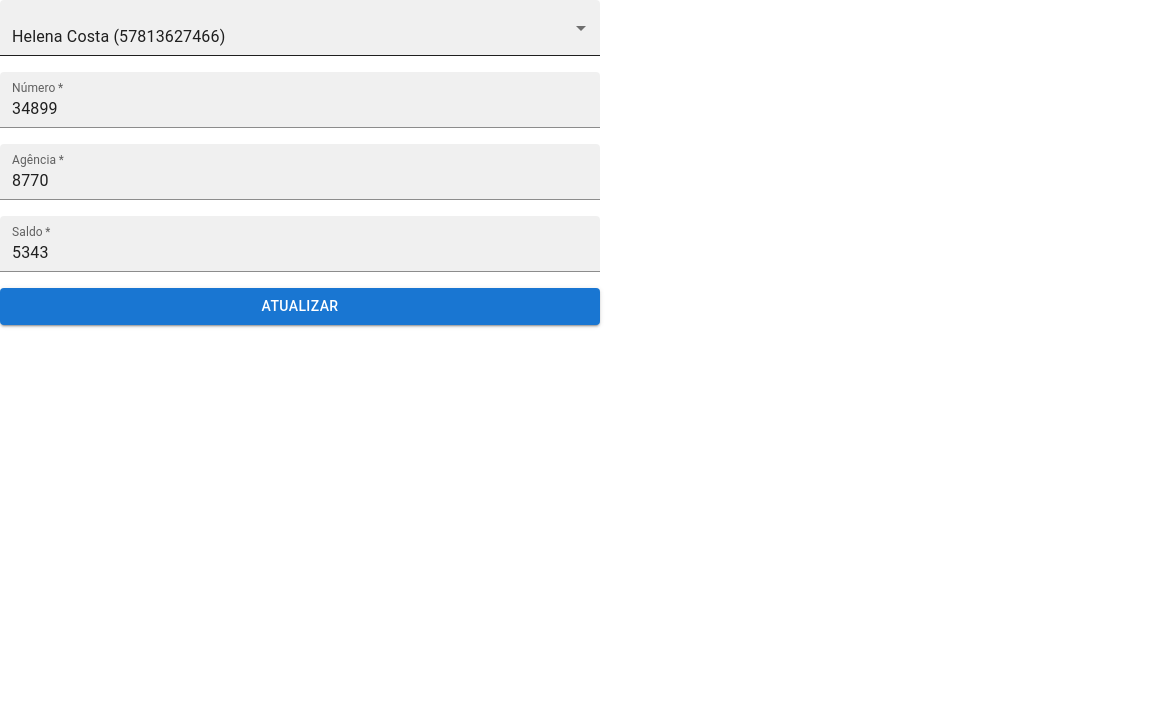
Test: EditContaForm › deve editar e atualizar o formulário com sucesso
The image size is (1152, 720).
Replace the text in the field labelled "Número *" with "12345": (300, 100) [0,72,600,128]
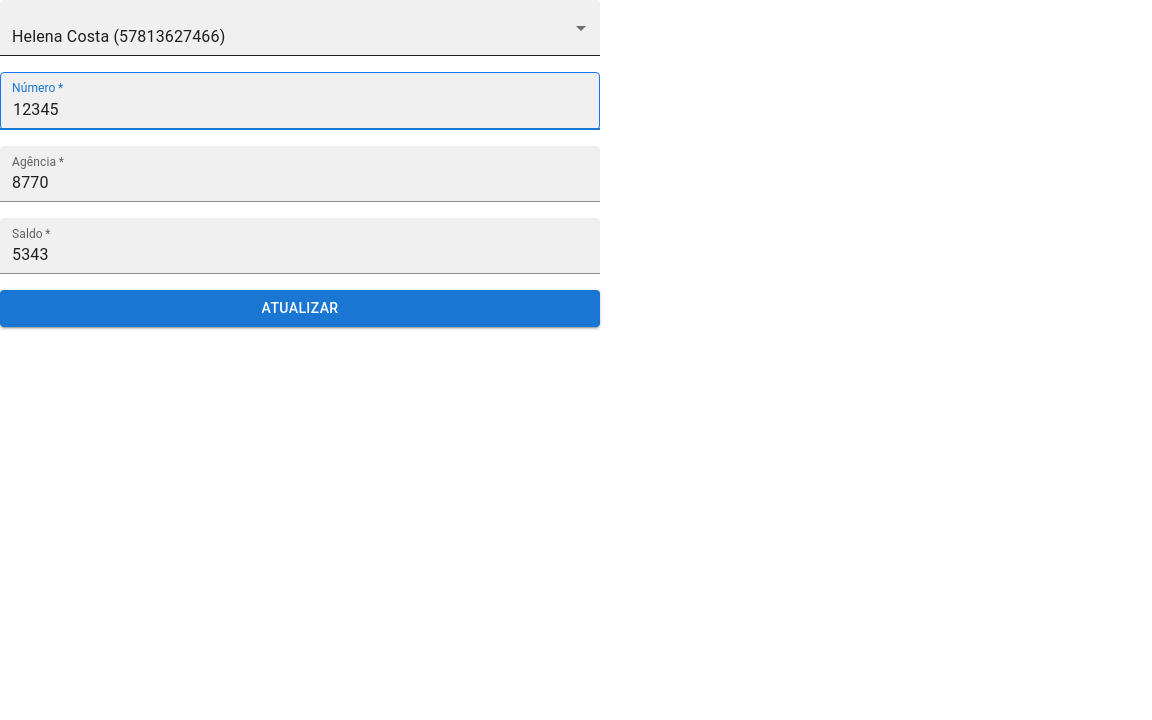
Replace the text in the field labelled "Agência *" with "1234": (300, 174) [0,146,600,202]
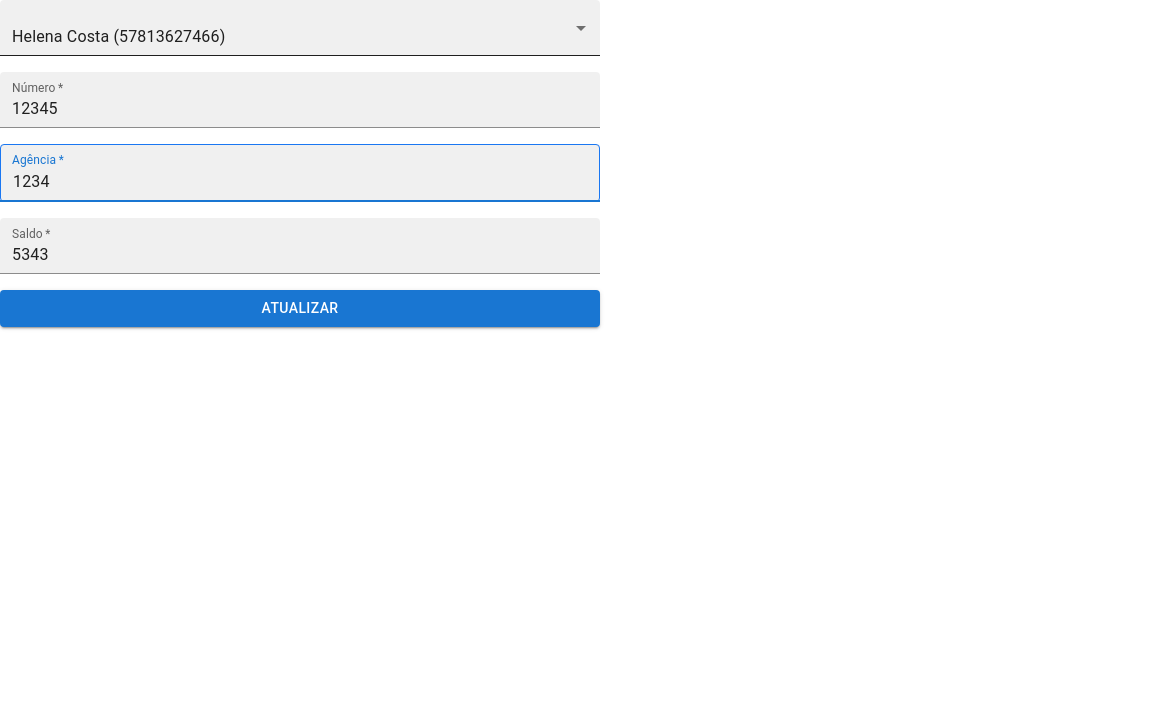
Replace the text in the field labelled "Saldo *" with "1000": (300, 246) [0,218,600,274]
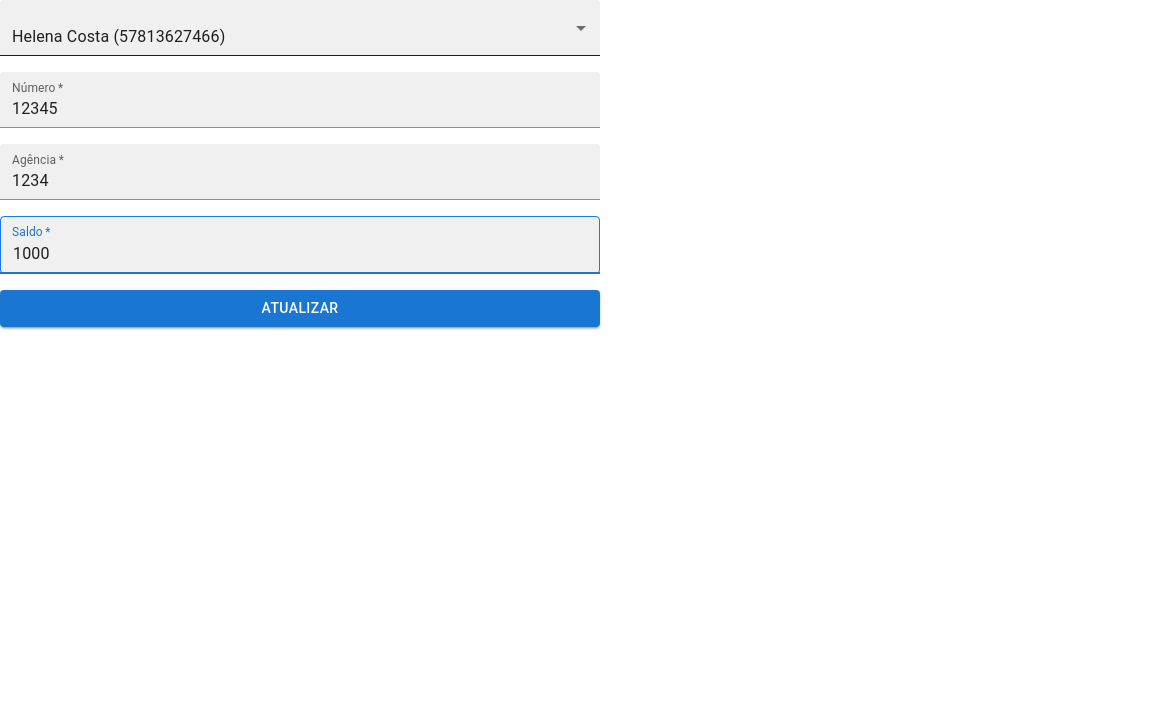
Click the button: click(300, 308) [0,290,600,326]
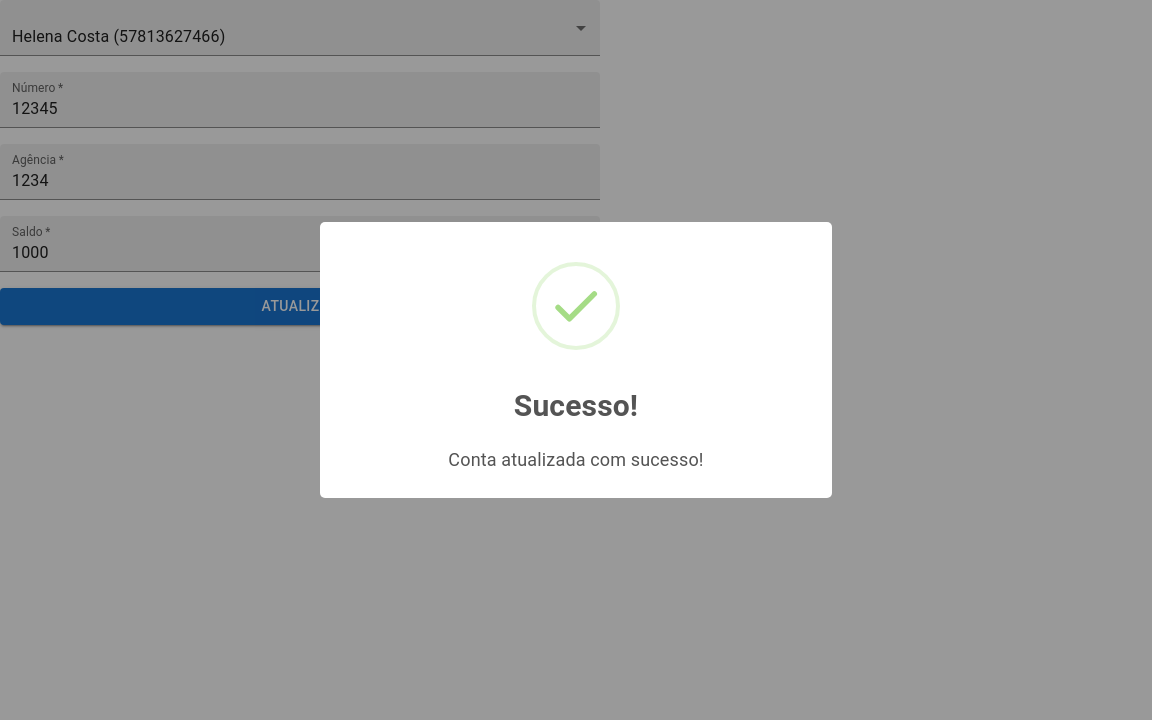
Result: the heading with class "swal2-title" reads "Sucesso!" at [514,388,638,423]
